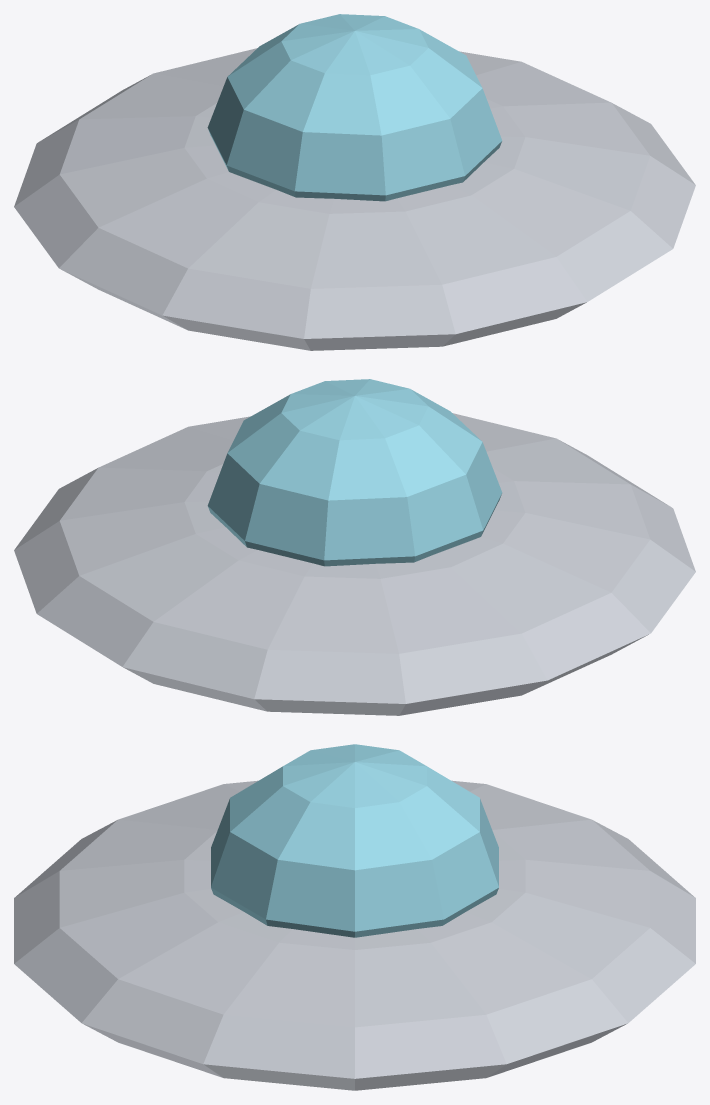
The model's file is toy_saucer.glb.
3 views of the same model, one above another, from view 1: azimuth 30°, elevation 25°; view 2: azimuth 150°, elevation 25°; view 3: azimuth 270°, elevation 25° (orthographic). The views are drawn at different scales.
Parts seen in each view (by area): view 1: disc_saucer_silver, dome_saucer_glass; view 2: disc_saucer_silver, dome_saucer_glass; view 3: disc_saucer_silver, dome_saucer_glass.
Part boxes in pixels (<box>): disc_saucer_silver: <box>14,48,695,350</box>; dome_saucer_glass: <box>207,14,502,201</box>; disc_saucer_silver: <box>14,413,695,715</box>; dome_saucer_glass: <box>207,379,502,566</box>; disc_saucer_silver: <box>14,780,695,1090</box>; dome_saucer_glass: <box>211,744,498,937</box>.
Bounding box in the file's own units: 0.3 × 0.11 × 0.2925.
